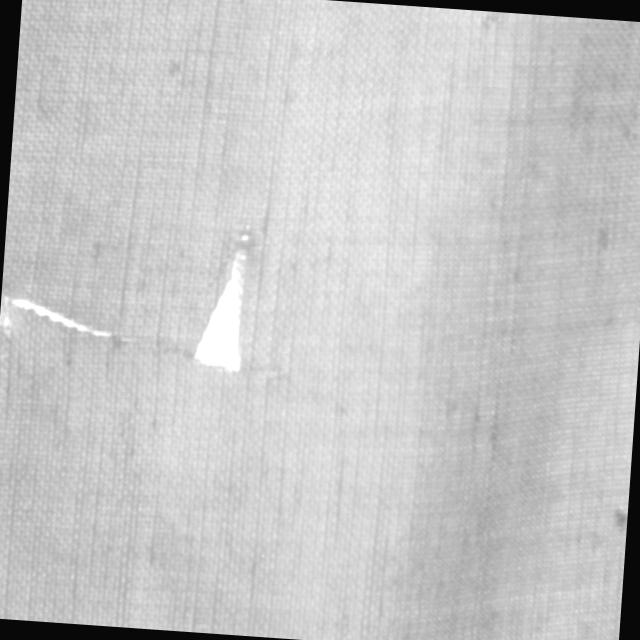hole: (187, 225, 260, 378), (0, 283, 122, 347)
